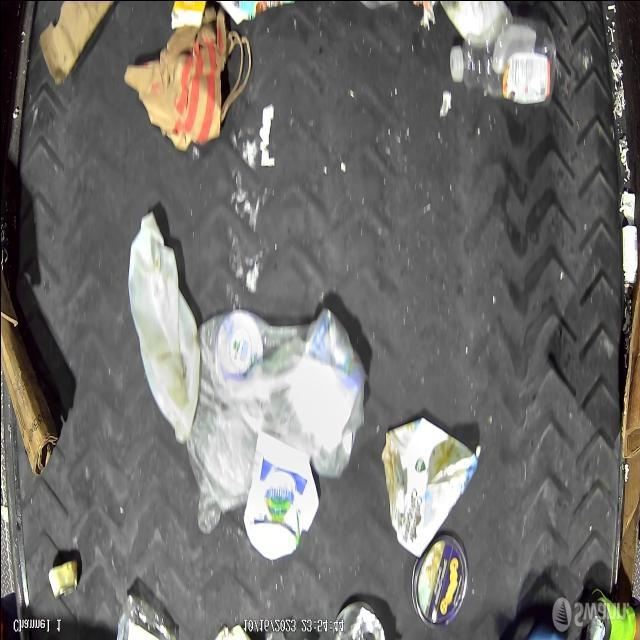milk_jug: (126, 211, 202, 444)
plastic_bottle: (448, 15, 557, 110)
